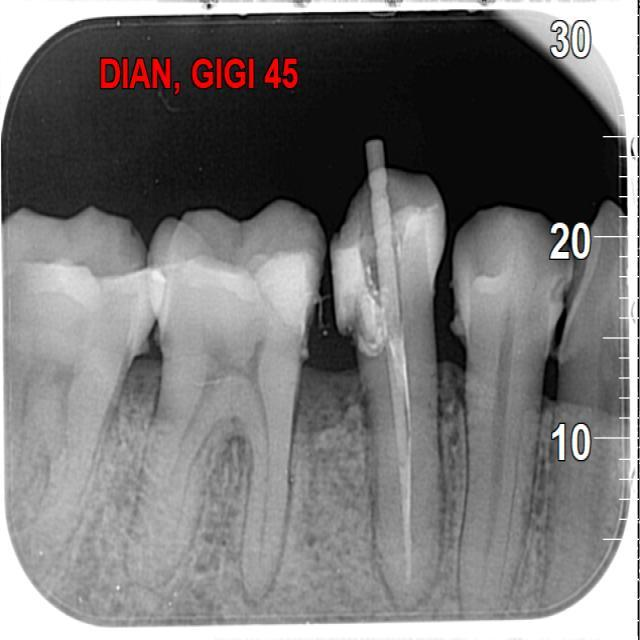individual-tooth-8tto: (130, 208, 331, 600), (455, 204, 581, 617), (341, 174, 448, 596)
